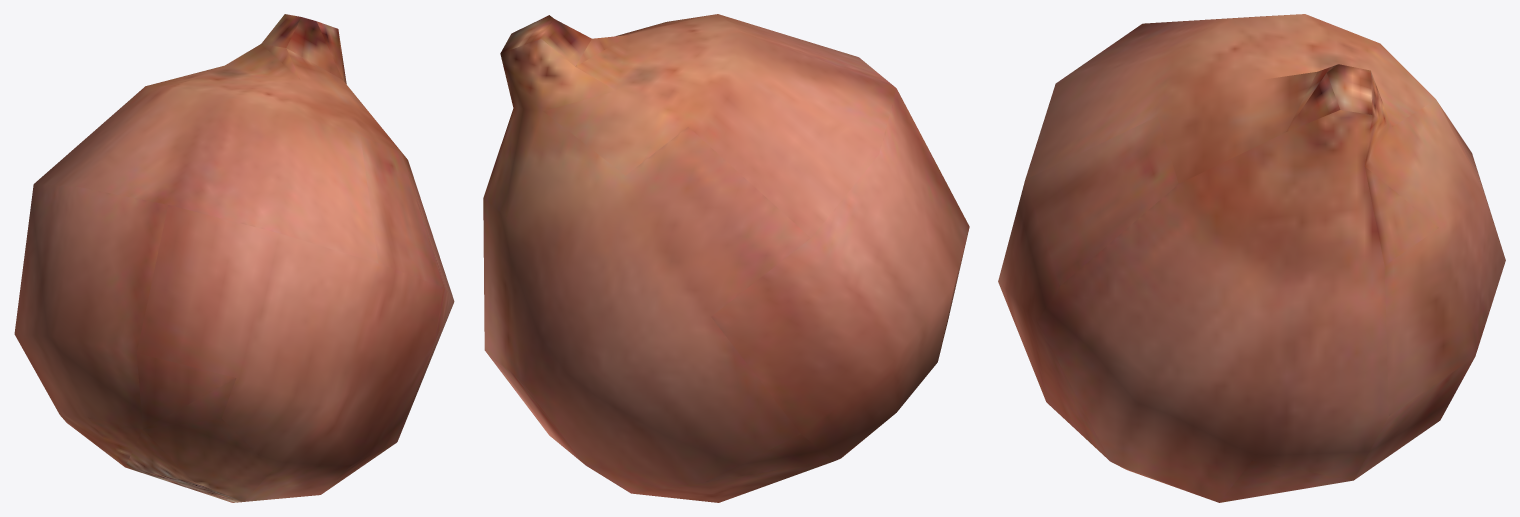
The model's file is SM_配餐室_水果蔬菜_16.fbx.
3 views of the same model, side by side, from view 1: azimuth 30°, elevation 25°; view 2: azimuth 150°, elevation 25°; view 3: azimuth 270°, elevation 25° (orthographic). The views are drawn at different scales.
Parts seen in each view (by area): view 1: SM_配餐室_水果蔬菜_16; view 2: SM_配餐室_水果蔬菜_16; view 3: SM_配餐室_水果蔬菜_16.
Boxes of the visible parts, x1=… form: SM_配餐室_水果蔬菜_16: x1=14, y1=14, x2=454, y2=502; SM_配餐室_水果蔬菜_16: x1=483, y1=14, x2=969, y2=502; SM_配餐室_水果蔬菜_16: x1=998, y1=14, x2=1505, y2=502.
Bounding box in the file's own units: 85.72 × 88.85 × 86.24.
